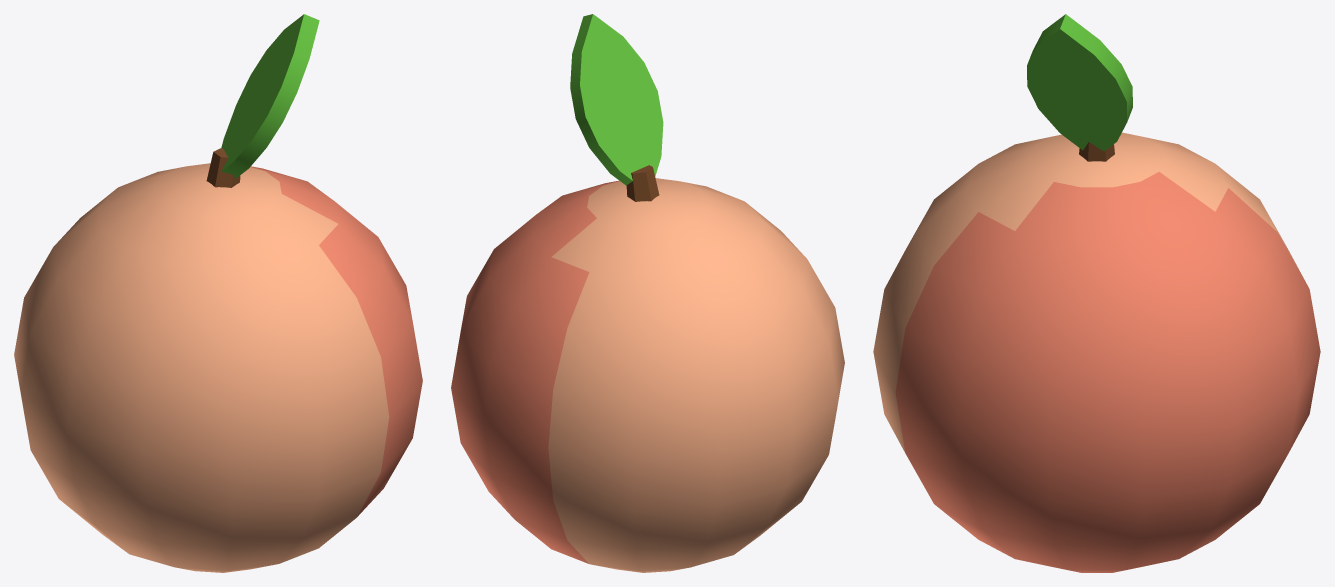
File: Peach.fbx
3 renders of one model, left to right at view 1: azimuth 30°, elevation 25°; view 2: azimuth 150°, elevation 25°; view 3: azimuth 270°, elevation 25°, orthographic. The views are drawn at different scales.
Parts seen in each view (by area): view 1: Peach; view 2: Peach; view 3: Peach.
Boxes of the visible parts, x1=… form: Peach: x1=14, y1=14, x2=422, y2=572; Peach: x1=451, y1=14, x2=844, y2=572; Peach: x1=873, y1=14, x2=1320, y2=572.
Size of the model in its own units: 1.13 by 1.65 by 1.16.
Materials: 1 (1 with a texture image).
